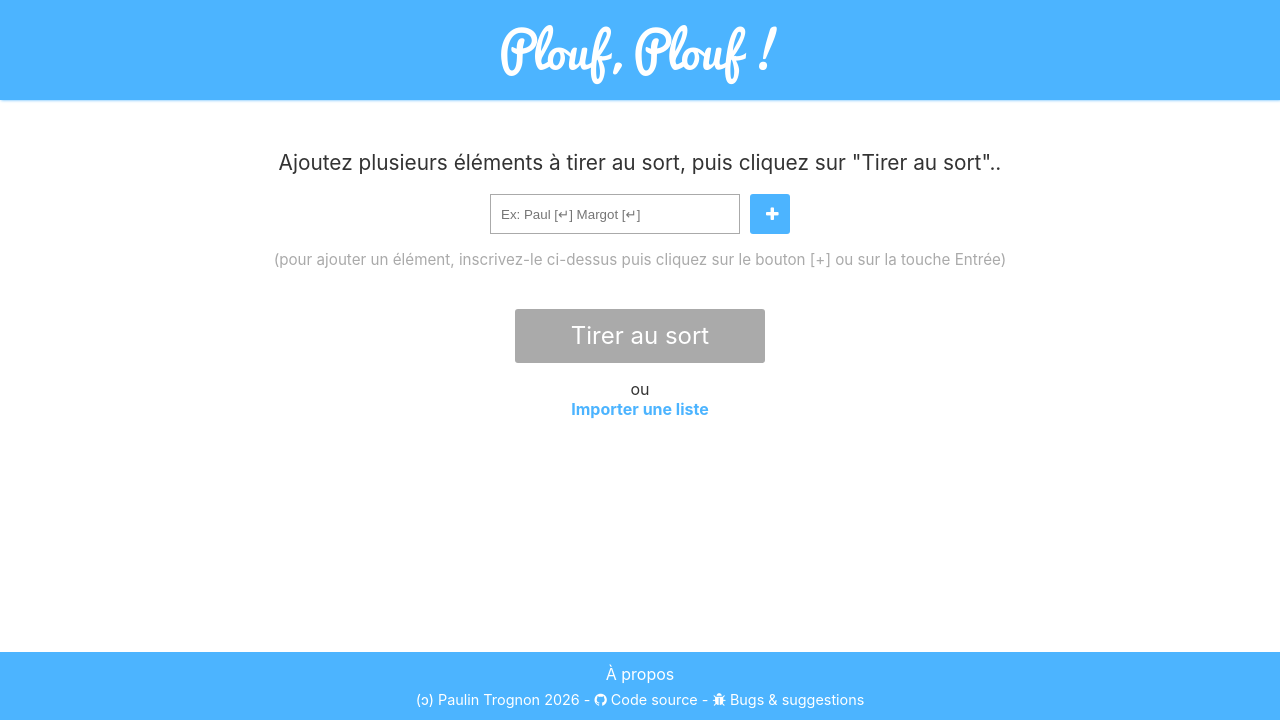
Test: Run draw › should pick a value
Step 1. Type "value 1" into the field with test id "AddValueForm_textInput" → (615, 214), box left=490, top=194, right=740, bottom=234
Step 2. Click the button with test id "AddValueForm_addInput" → click(770, 214), box left=750, top=194, right=790, bottom=234
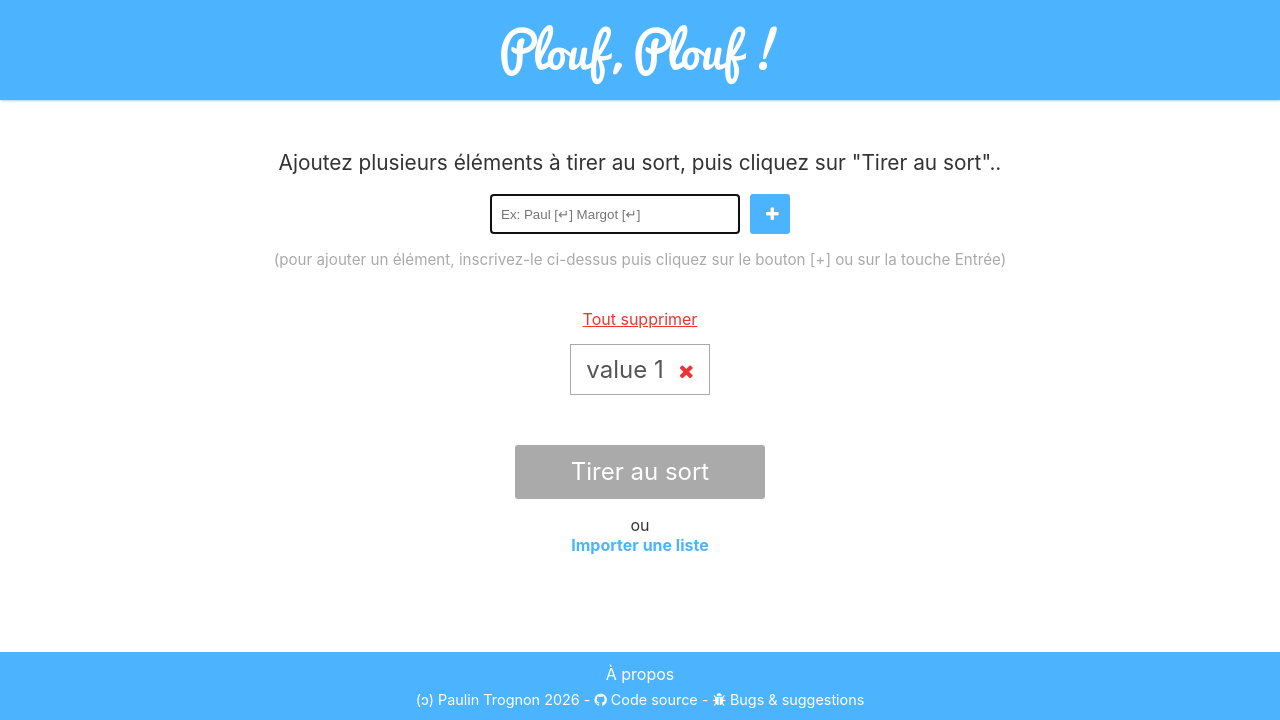
Step 3. Type "value 2" into the field with test id "AddValueForm_textInput" → (615, 214), box left=490, top=194, right=740, bottom=234
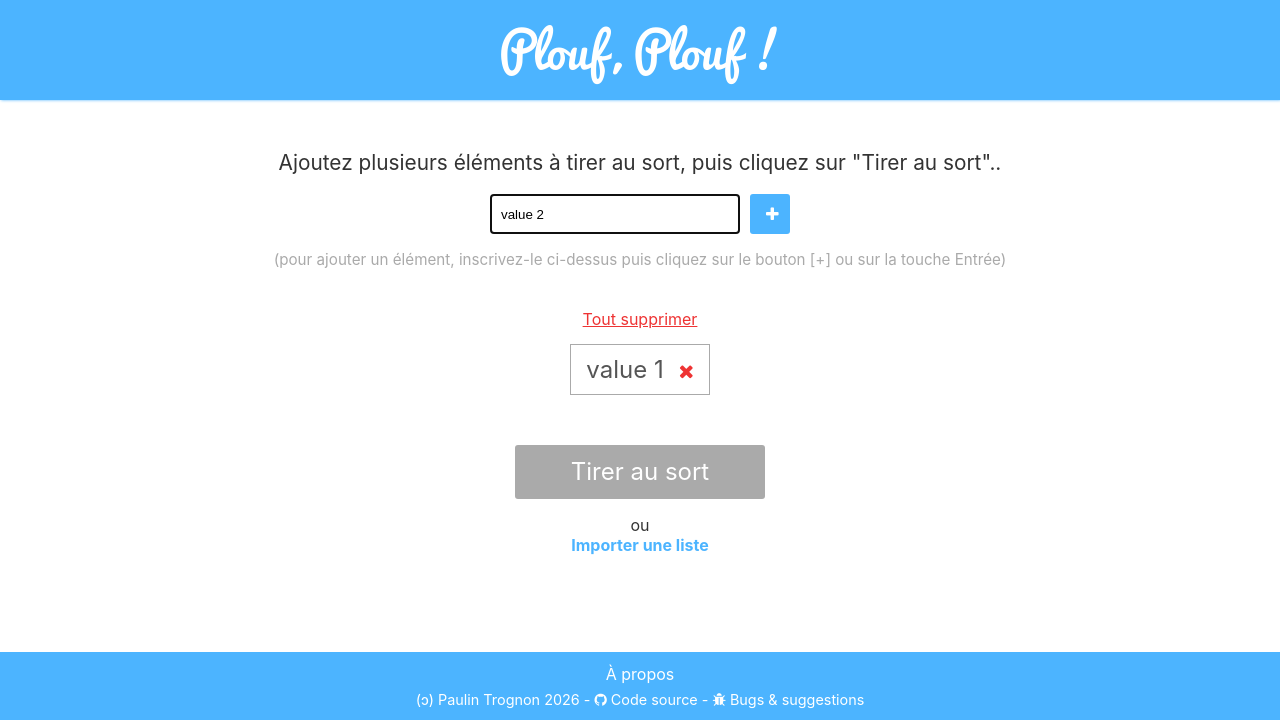
Step 4. Click the button with test id "AddValueForm_addInput" → click(770, 214), box left=750, top=194, right=790, bottom=234
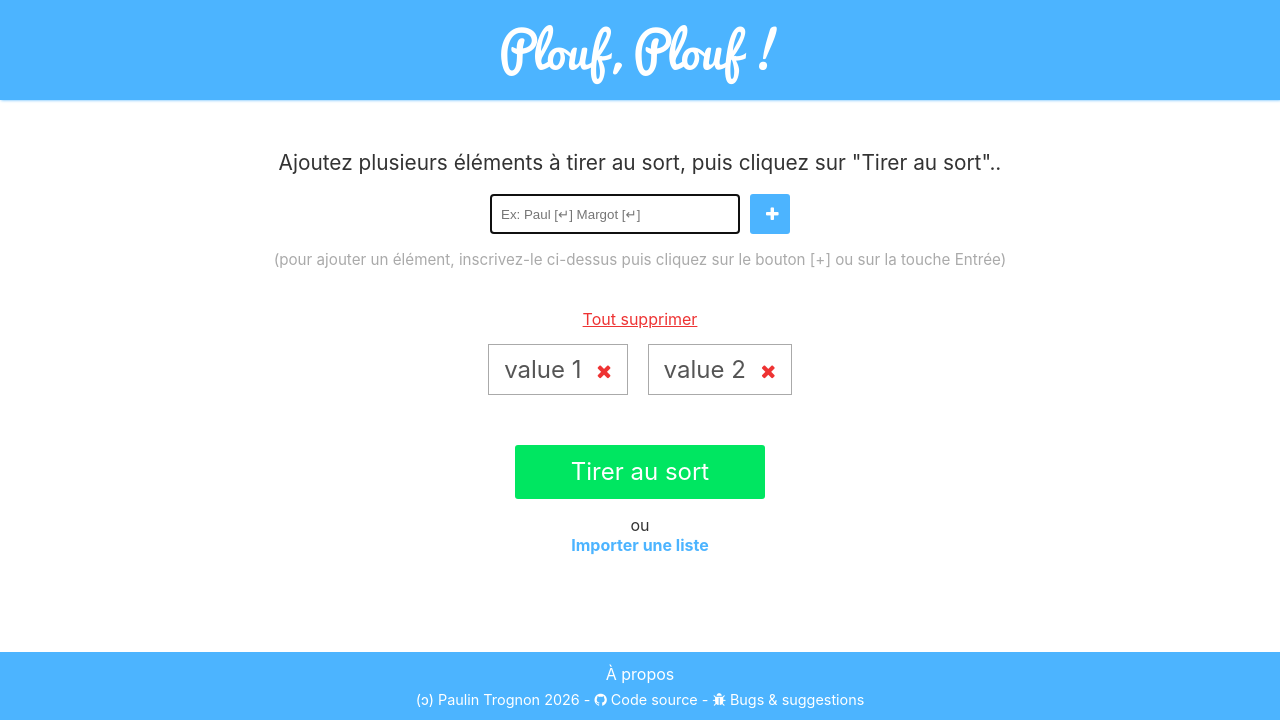
Step 5. Type "value 3" into the field with test id "AddValueForm_textInput" → (615, 214), box left=490, top=194, right=740, bottom=234
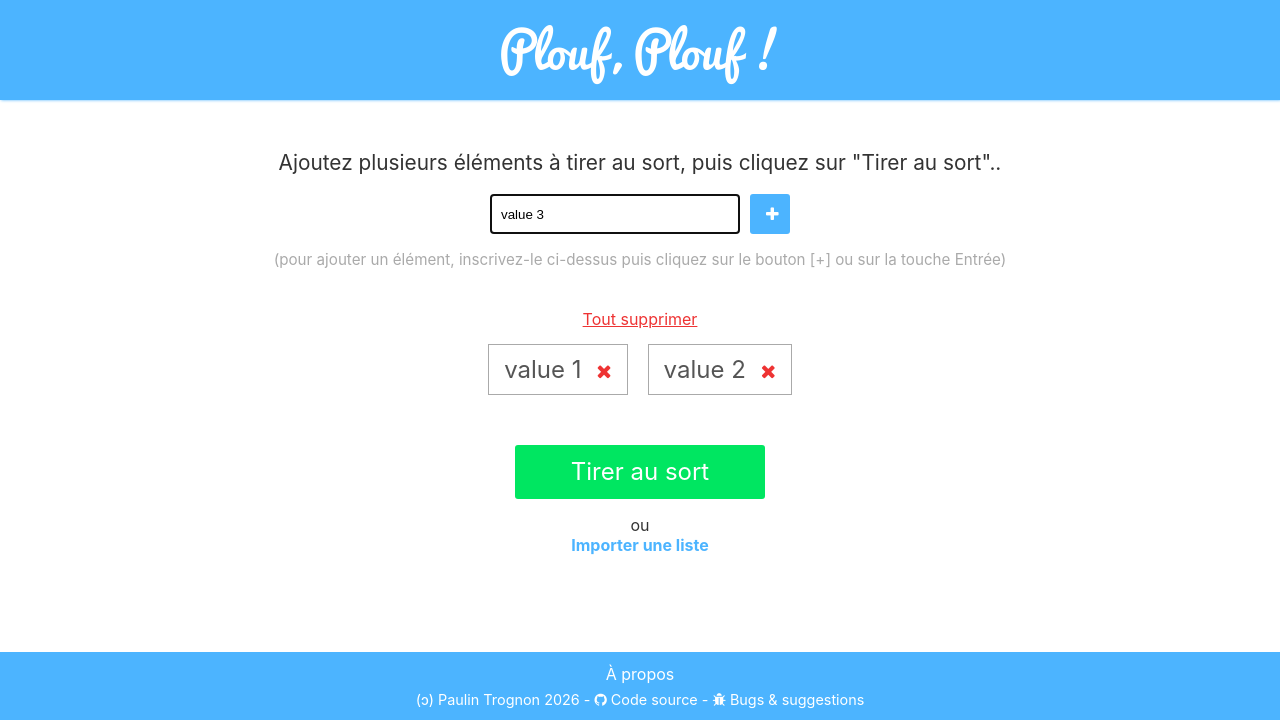
Step 6. Click the button with test id "AddValueForm_addInput" → click(770, 214), box left=750, top=194, right=790, bottom=234
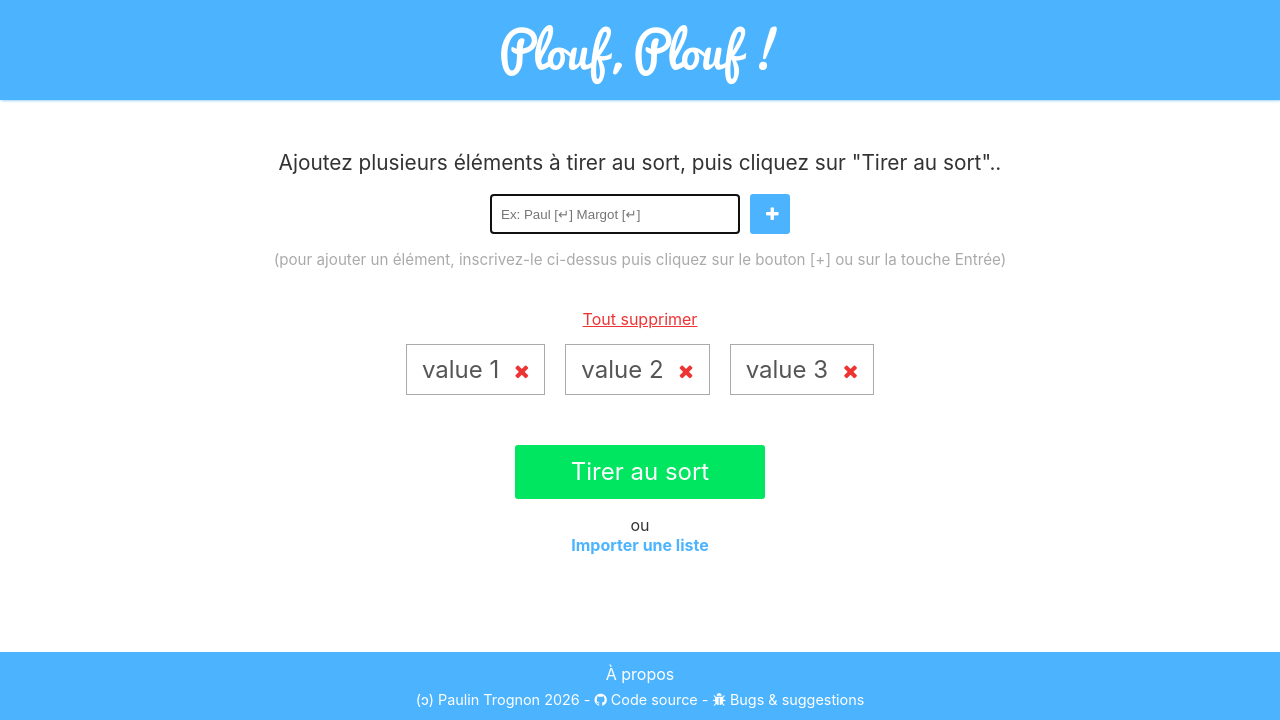
Step 7. Click the button with test id "SubmitValues" → click(640, 472), box left=515, top=445, right=765, bottom=499
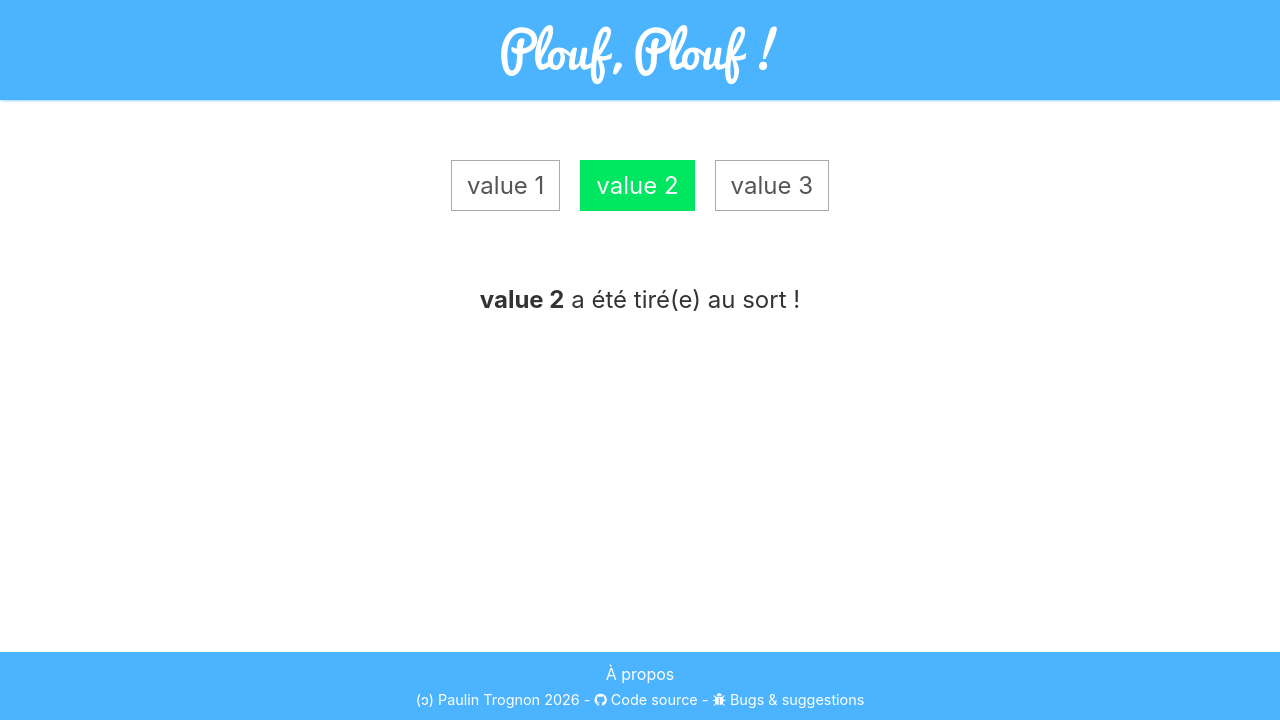
Check: the element with test id "ResultPhrase" is shown, box left=480, top=285, right=800, bottom=314
Check: the text "value 2" next to "a été tiré(e) au sort !" is shown, box left=480, top=285, right=565, bottom=314
